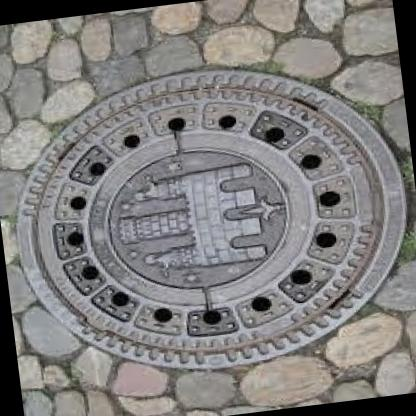manholes: (0, 30, 416, 401)
